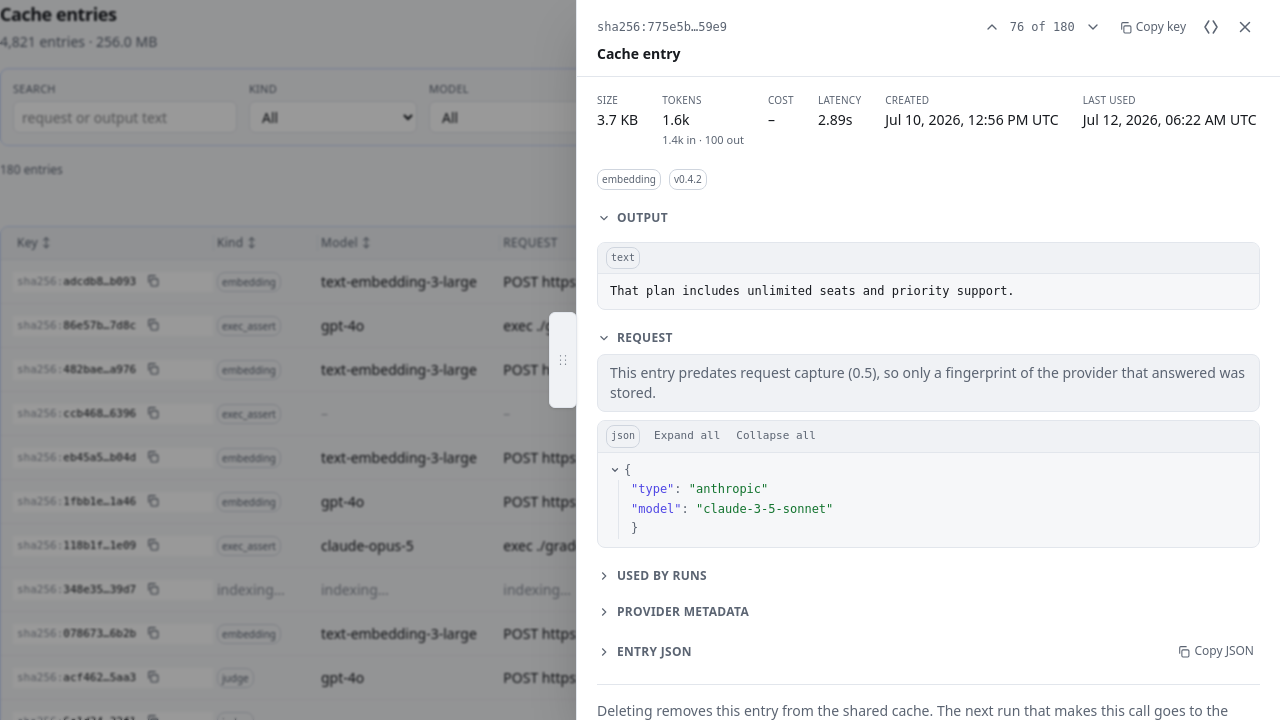
Test case: CacheEntryDrawer › does not look up runs until the section is expanded
Click the button "Used by runs" at (662, 575), box [597,568,1260,584]
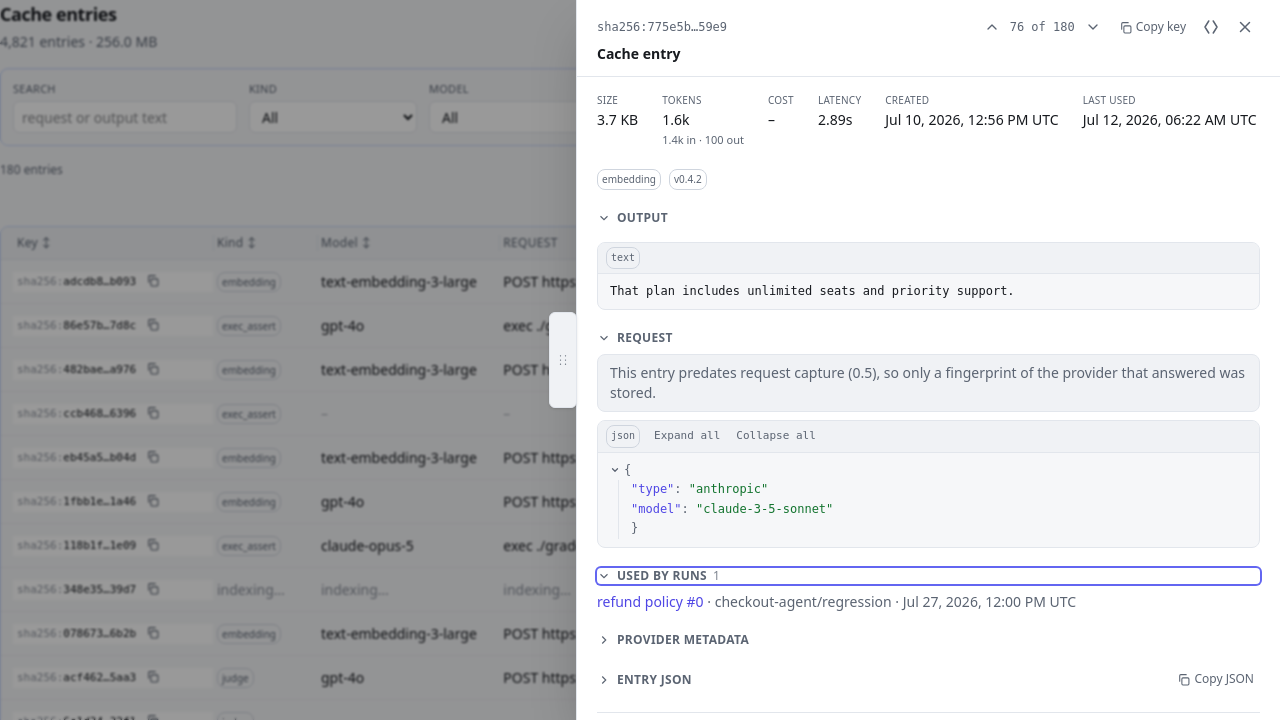
Result: the link "refund policy #0" is shown at [597,592,704,610]
